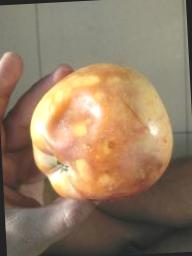Apple Rotten: (16, 60, 188, 207)
